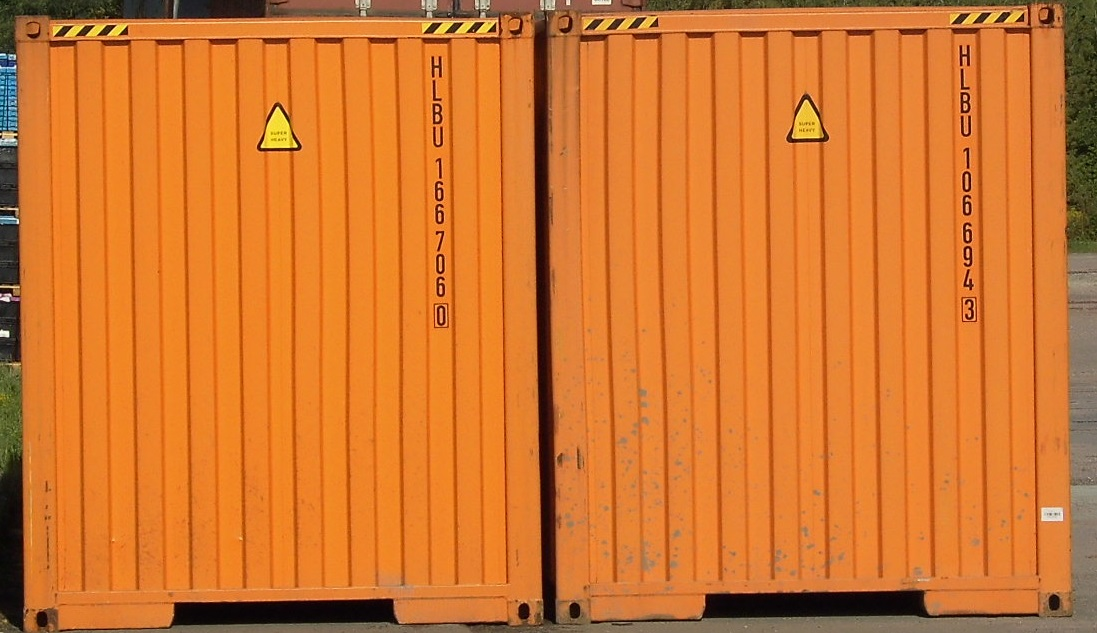container_no_door: (10, 11, 545, 630), (532, 1, 1067, 620)
